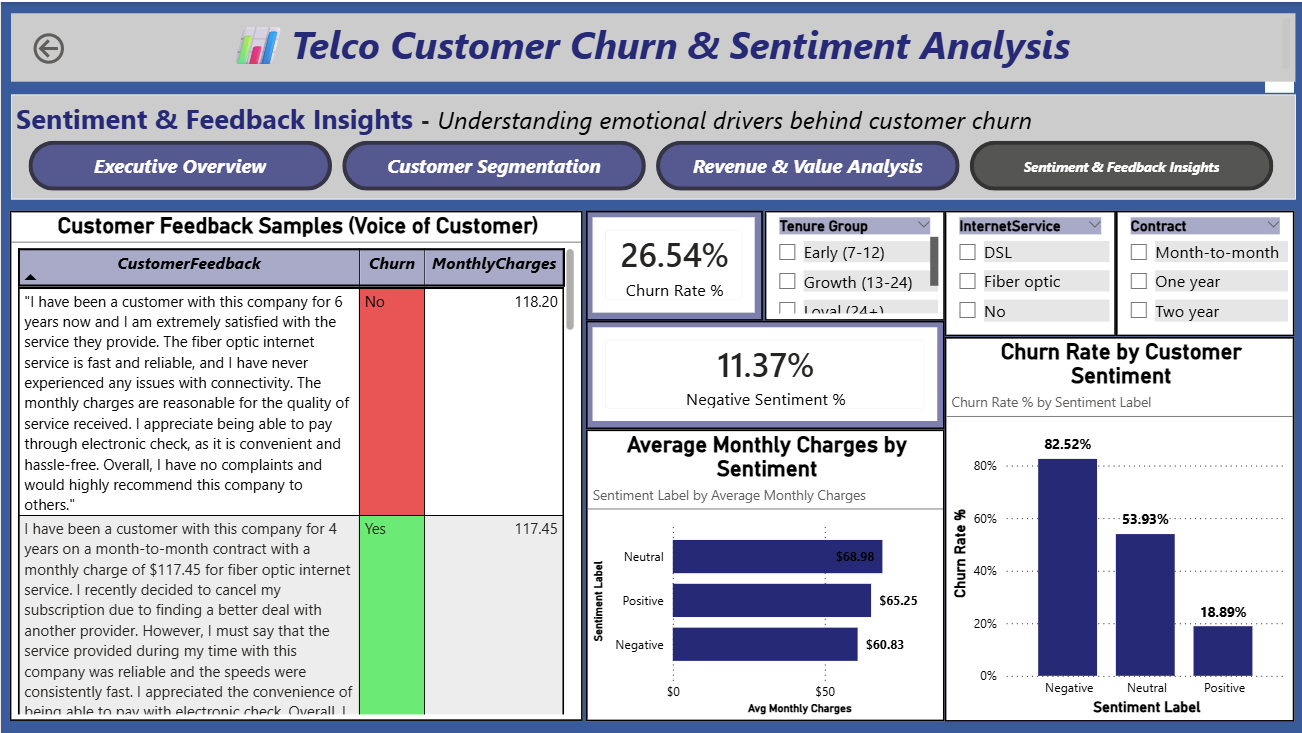

This screenshot's page, from the dashboard's own definition file:
{"tool":"powerbi","page":{"name":"Sentiment & Feedback Insights","canvas":[1280,720],"ordinal":3},"visuals":[{"type":"textbox","title":"Executive Overview -","box":[9.6,90.6,1261.1,102.9],"z":0},{"type":"textbox","box":[9.6,11,1261.1,67.2],"z":1000},{"type":"actionButton","box":[27.4,26.1,100.2,39.8],"z":2000},{"type":"pageNavigator","box":[27.4,135.8,1225.4,49.4],"z":3000},{"type":"slicer","fields":{"Values":["Telco_Data_Cleaned.Contract"]},"box":[1094.4,205.4,175.4,122.9],"z":4000},{"type":"slicer","fields":{"Values":["Telco_Data_Cleaned.InternetService"]},"box":[926.5,205.4,167.9,122.9],"z":5000},{"type":"slicer","fields":{"Values":["Telco_Data_Cleaned.Tenure Group"]},"box":[749.6,205.4,176.9,107.9],"z":6000},{"type":"tableEx","title":"Customer Feedback Samples (Voice of Customer)","fields":{"Values":["Telco_Data_Cleaned.CustomerFeedback","Telco_Data_Cleaned.Churn","Telco_Data_Cleaned.MonthlyCharges"]},"box":[9,205.4,562.2,500.7],"z":7000},{"type":"clusteredColumnChart","title":"Churn Rate by Customer Sentiment","fields":{"Y":["Telco_Data_Cleaned.Churn Rate %"],"Category":["Telco_Data_Cleaned.Sentiment Label"]},"box":[926.5,328.3,343.3,377.8],"z":8000},{"type":"clusteredBarChart","title":"Average Monthly Charges by Sentiment","fields":{"Y":["Telco_Data_Cleaned.Avg Monthly Charges"],"Category":["Telco_Data_Cleaned.Sentiment Label"]},"box":[574.2,419.8,352.3,286.3],"z":9000},{"type":"cardVisual","fields":{"Data":["Telco_Data_Cleaned.Churn Rate %"]},"box":[574.2,205.4,173.9,107.9],"z":10000},{"type":"cardVisual","fields":{"Data":["Telco_Data_Cleaned.Negative Sentiment %"]},"box":[574.2,313.3,352.3,106.4],"z":11000}]}

Visuals, with their boxes in screenshot pixels (x1, y1, x2, y2), scaled from the page's 1280x720 canvas onto the 1302x733 screenshot:
"Executive Overview -" textbox: <bbox>10, 92, 1293, 197</bbox>
textbox: <bbox>10, 11, 1293, 80</bbox>
actionButton: <bbox>28, 27, 130, 67</bbox>
pageNavigator: <bbox>28, 138, 1274, 189</bbox>
slicer - Telco_Data_Cleaned.Contract: <bbox>1113, 209, 1292, 334</bbox>
slicer - Telco_Data_Cleaned.InternetService: <bbox>942, 209, 1113, 334</bbox>
slicer - Telco_Data_Cleaned.Tenure Group: <bbox>762, 209, 942, 319</bbox>
"Customer Feedback Samples (Voice of Customer)" tableEx: <bbox>9, 209, 581, 719</bbox>
"Churn Rate by Customer Sentiment" clusteredColumnChart: <bbox>942, 334, 1292, 719</bbox>
"Average Monthly Charges by Sentiment" clusteredBarChart: <bbox>584, 427, 942, 719</bbox>
cardVisual - Telco_Data_Cleaned.Churn Rate %: <bbox>584, 209, 761, 319</bbox>
cardVisual - Telco_Data_Cleaned.Negative Sentiment %: <bbox>584, 319, 942, 427</bbox>
